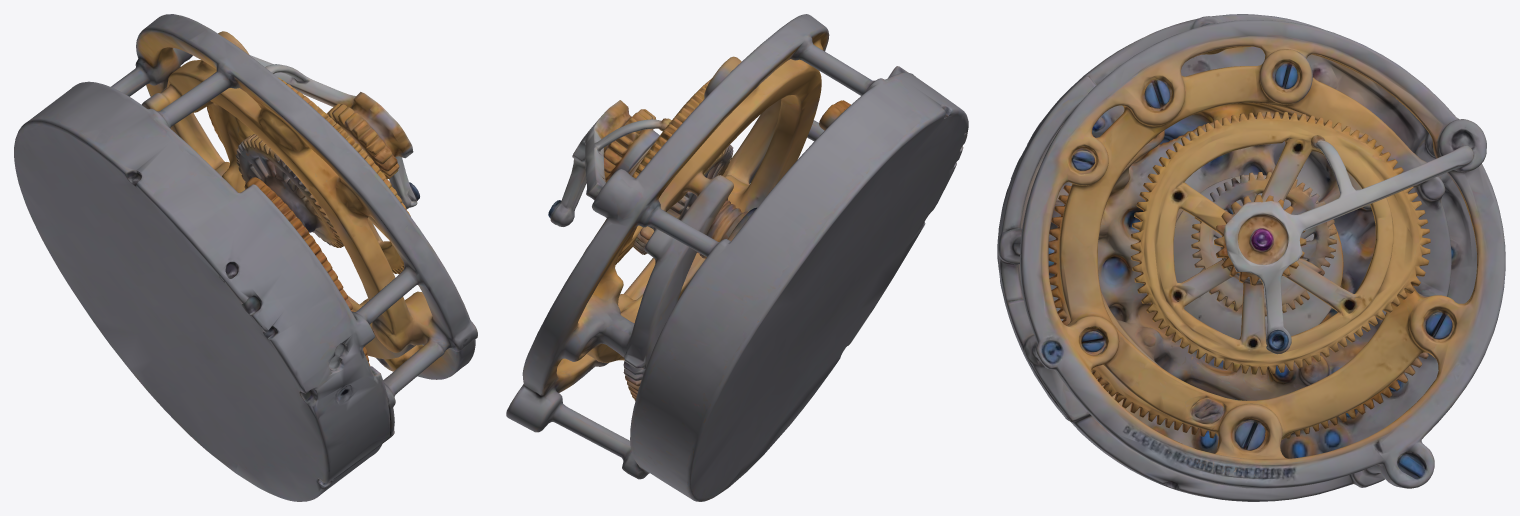
Rendered from exist-tourbillon.glb.
3 views of the same model, side by side, from view 1: azimuth 30°, elevation 25°; view 2: azimuth 150°, elevation 25°; view 3: azimuth 270°, elevation 25° (orthographic). The views are drawn at different scales.
Parts seen in each view (by area): view 1: material; view 2: material; view 3: material.
Part boxes in pixels (left/top/right/bottom): material: left=14, top=14, right=477, bottom=501; material: left=506, top=14, right=968, bottom=501; material: left=997, top=14, right=1505, bottom=501.
Bounding box in the file's own units: 0.8492 × 1.05 × 1.04.
1 material, 1 textured.
